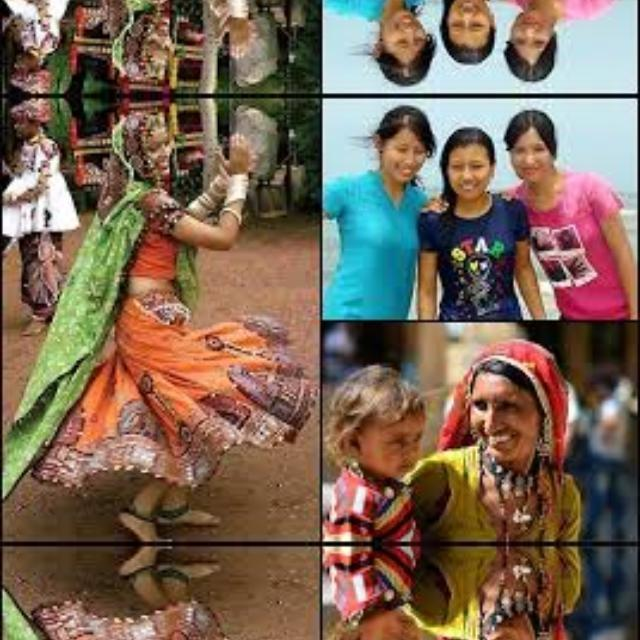person: (67, 98, 283, 544), (488, 99, 640, 345), (434, 348, 594, 544), (327, 95, 431, 352), (67, 544, 283, 640), (428, 114, 524, 326), (67, 0, 283, 92), (329, 352, 428, 544), (434, 544, 593, 640), (488, 0, 639, 91), (327, 0, 431, 94), (329, 544, 428, 640), (428, 0, 523, 76)
